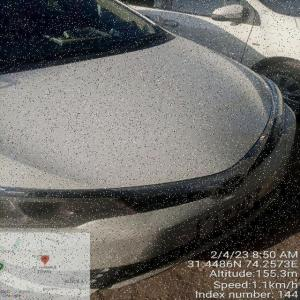Plate: (198, 189, 260, 242)
